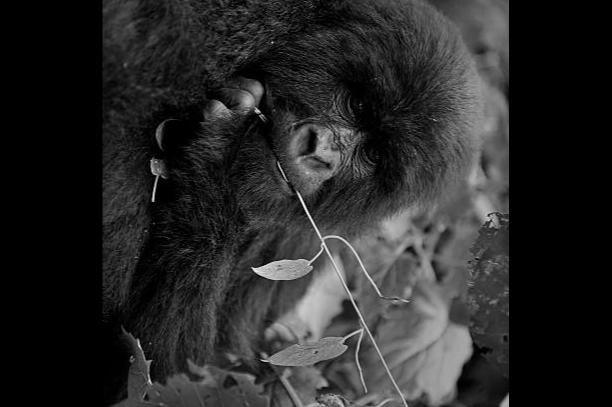goriile_montagne: (106, 0, 496, 388)
